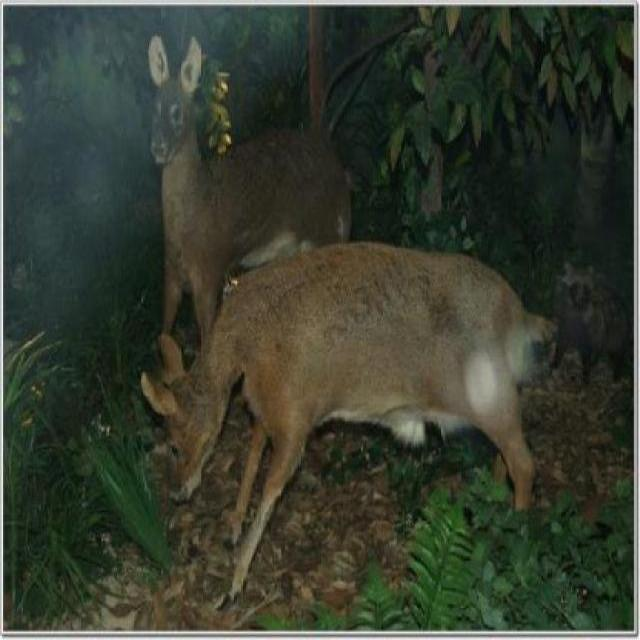deer: (148, 230, 546, 585), (130, 27, 384, 290)
